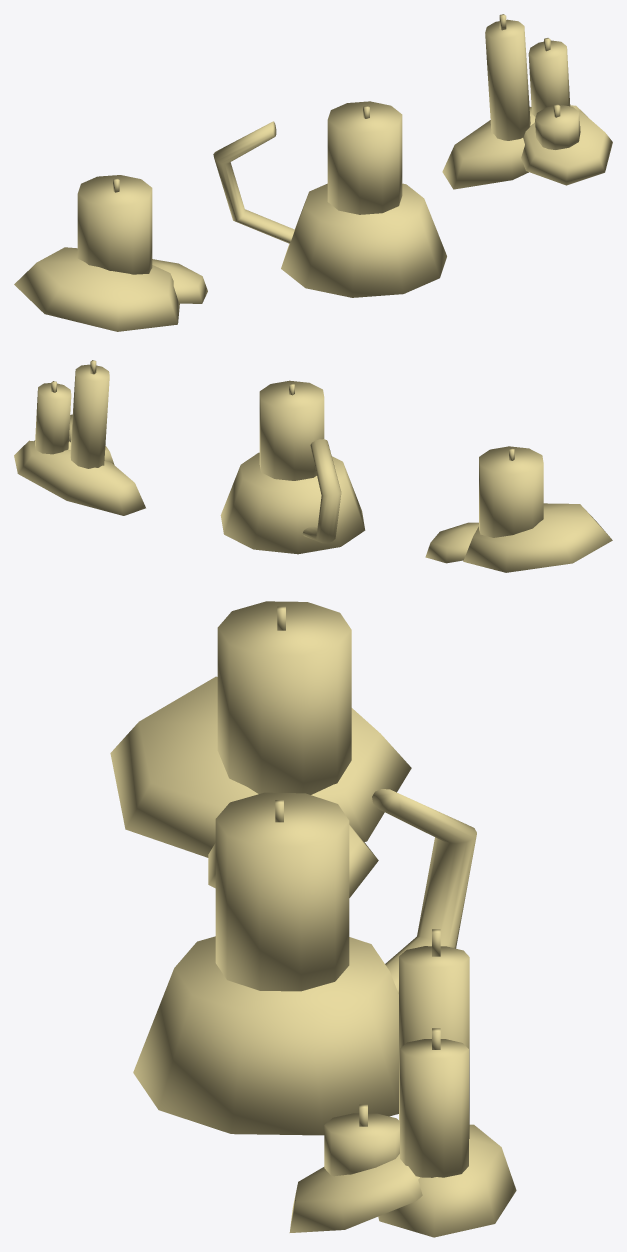
Rendered from velas.obj.
3 renders of one model, top to bottom at view 1: azimuth 30°, elevation 25°; view 2: azimuth 150°, elevation 25°; view 3: azimuth 270°, elevation 25°, orthographic. The views are drawn at different scales.
Parts seen in each view (by area): view 1: Object004, Cylinder008, Object003; view 2: Object004, Cylinder008, Object003; view 3: Object004, Cylinder008, Object003.
Part boxes in pixels (x1,y1,x2,y2): Object004: (213, 101, 446, 297); Cylinder008: (14, 175, 207, 331); Object003: (442, 14, 612, 189); Object004: (220, 380, 365, 554); Cylinder008: (425, 446, 612, 572); Object003: (14, 360, 145, 515); Object004: (133, 789, 476, 1135); Cylinder008: (110, 601, 411, 897); Object003: (289, 929, 516, 1237).
Bounding box in the file's own units: 1.45 × 0.3837 × 0.4692.
